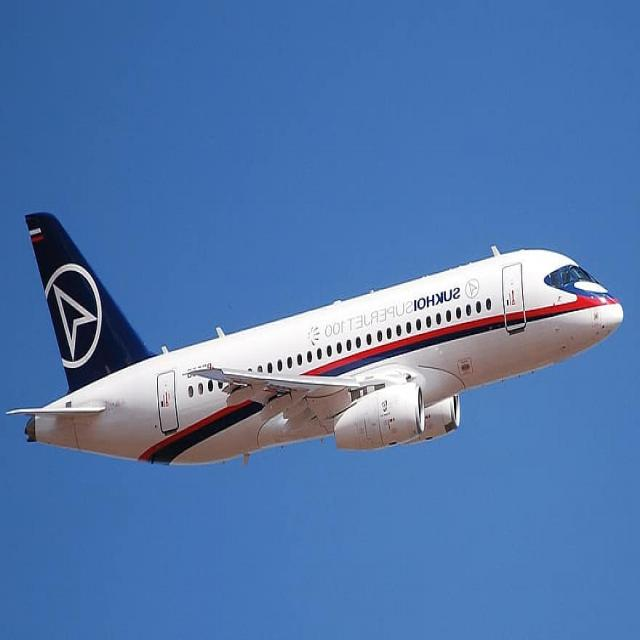plane: (3, 196, 628, 477)
